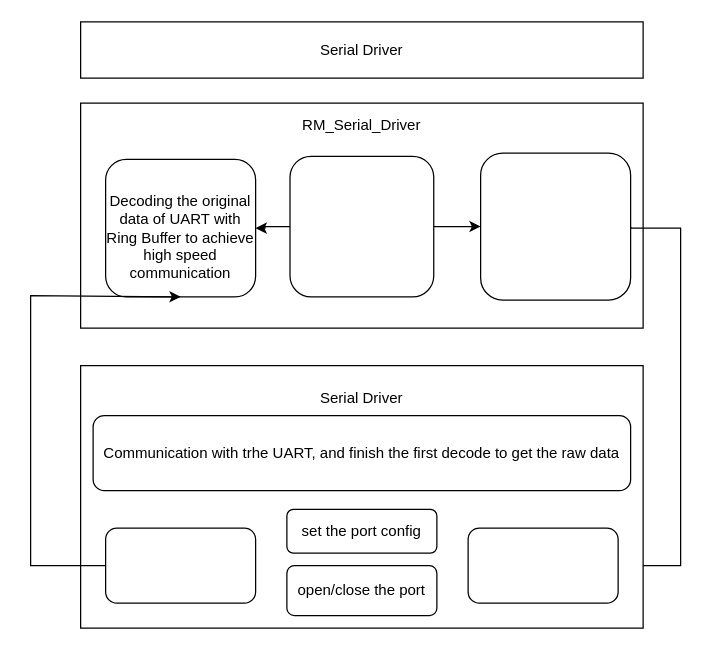
Some shapes in this 713 by 650 pixel diagram are drawn without their labels. The centre of each missing label's shape, as x and y in pixels:
"Communication with other node，responsibal for publish and subscription" goes at pixel 361 226.
"Encoding with the CV command packet" goes at pixel 555 226.
"receive data" goes at pixel 180 565.
"transmit data" goes at pixel 542 565.
